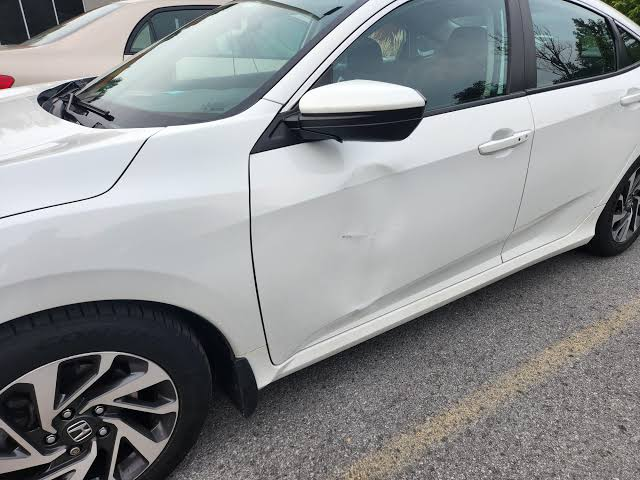doorouter-dent: (259, 115, 519, 358)
